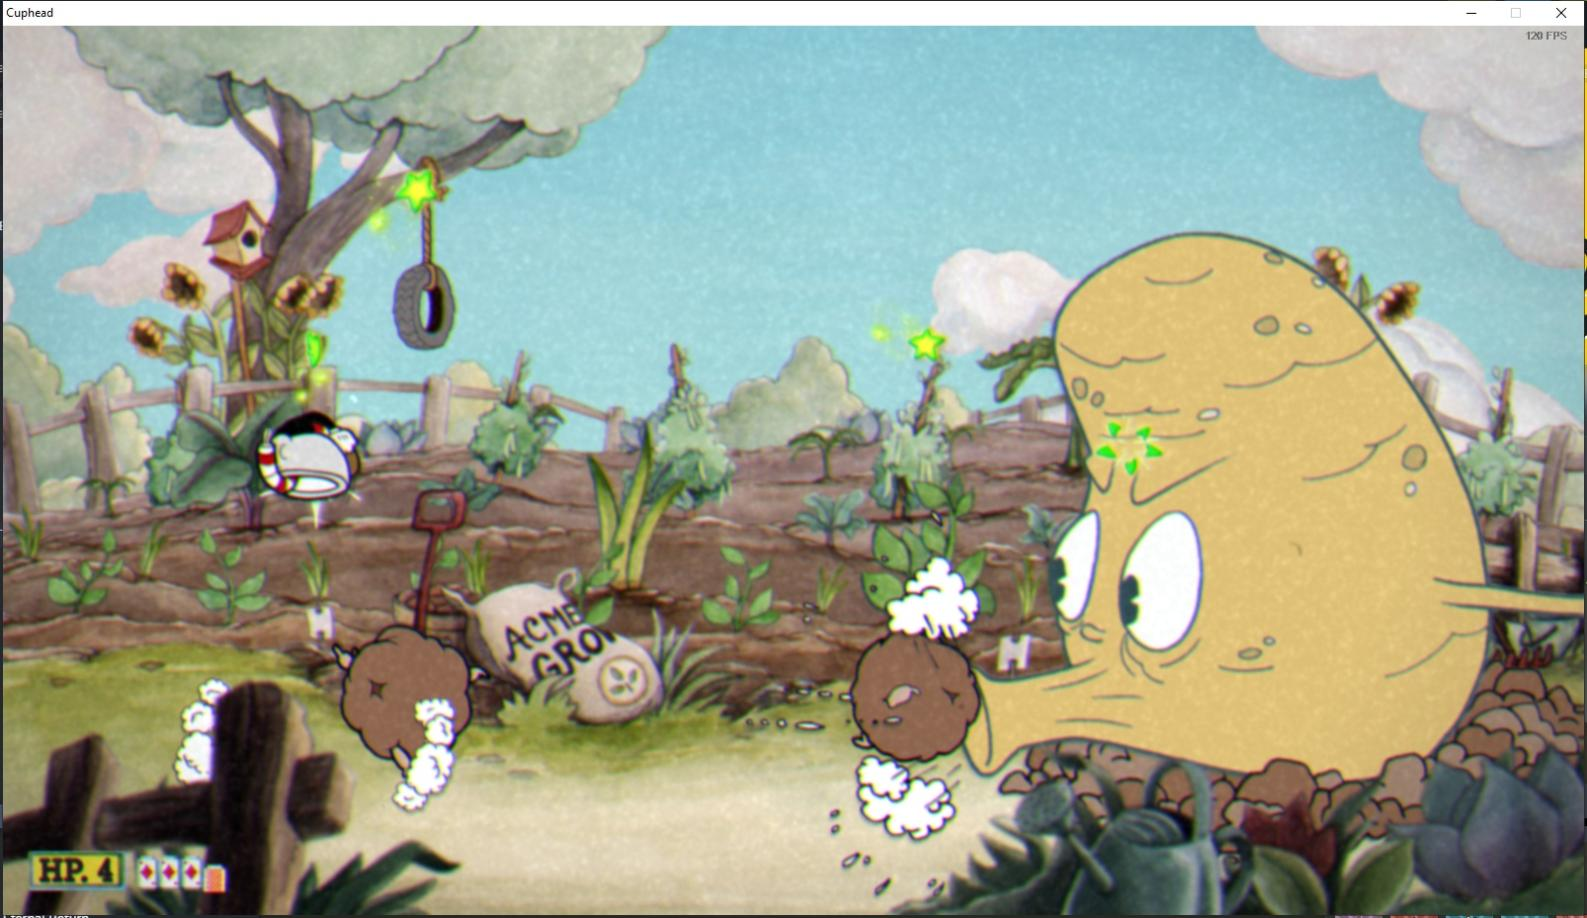dirt: (316, 606, 493, 772), (833, 617, 987, 779)
hp4: (90, 850, 126, 890)
player: (250, 397, 371, 514)
potato_boss: (968, 222, 1509, 826)
